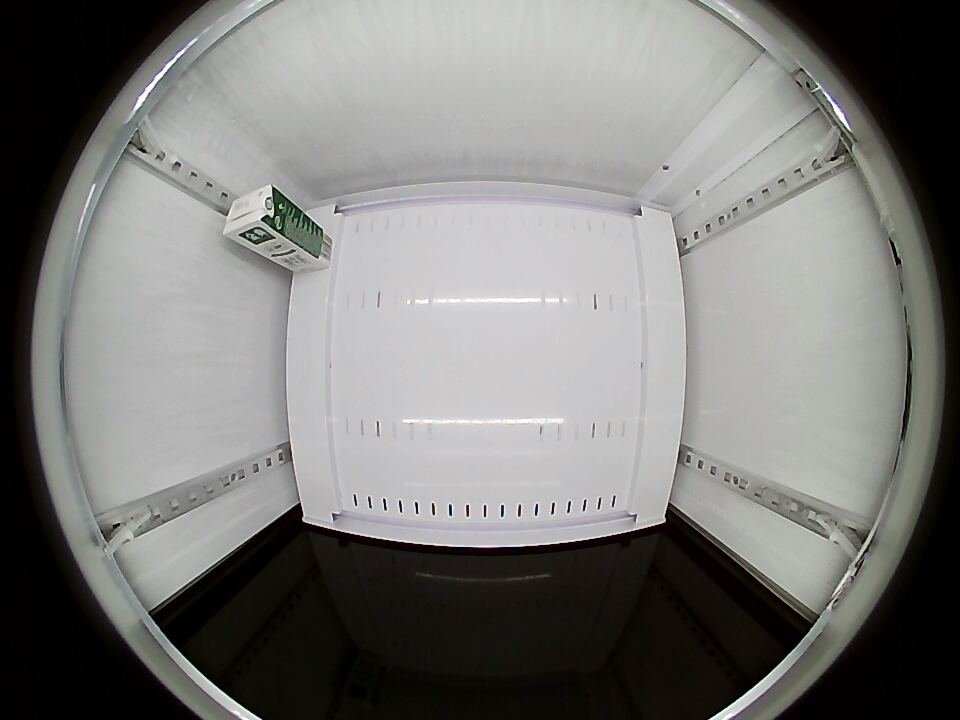jindian: (222, 184, 291, 249)
